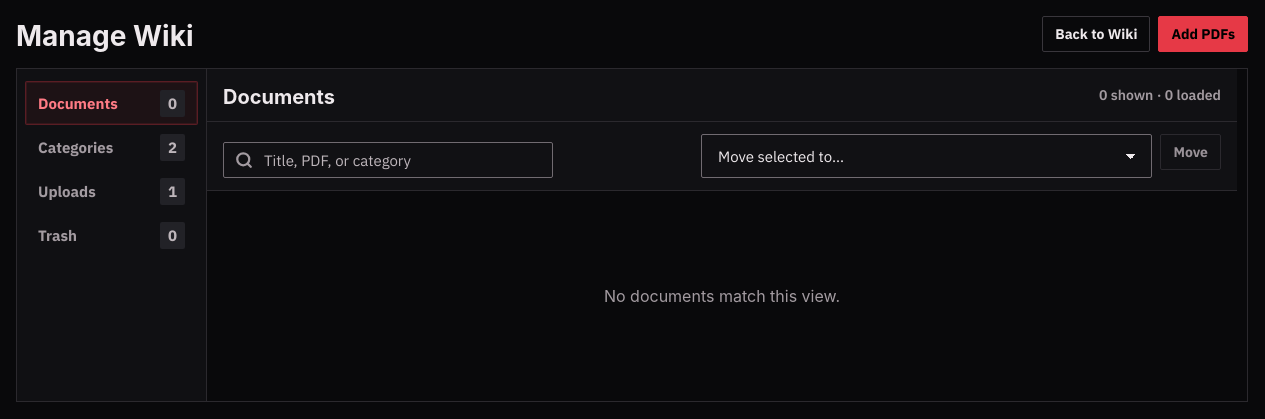
KnowledgeManagementWorkspace › only allows discard when the selected replacement document is no longer available
Click the button "Uploads 1" at (112, 191), box [25,169,198,213]
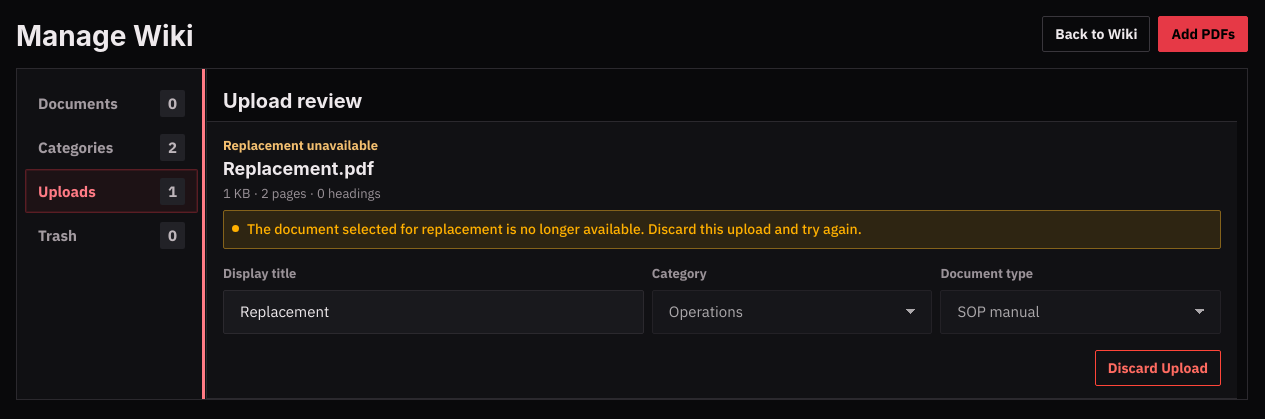
Now the text "The document selected for replacement is no longer available. Discard this upload and try again." is shown, box [247,220,862,238]
Now the button with aria-label "Discard Replacement.pdf" is enabled, box [1095,350,1221,386]
